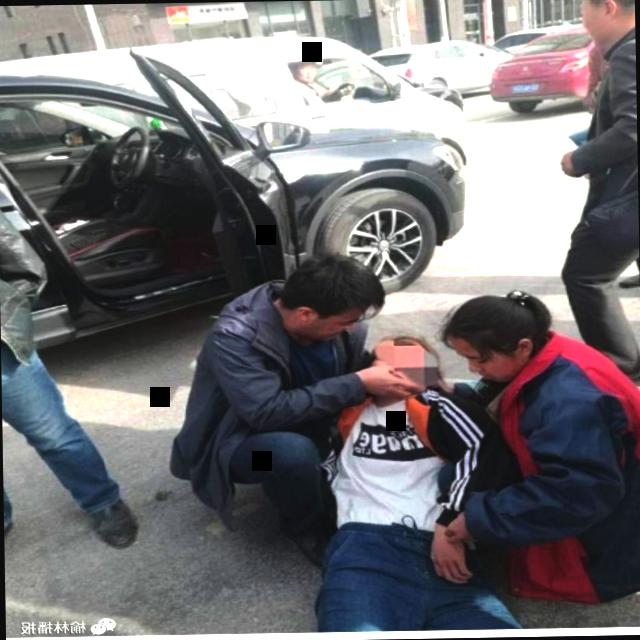Fall-Detected: (279, 309, 547, 640)
